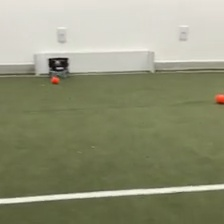ball: (214, 90, 224, 105), (50, 75, 60, 84)
goal: (32, 48, 157, 77)
robot: (46, 55, 71, 79)
